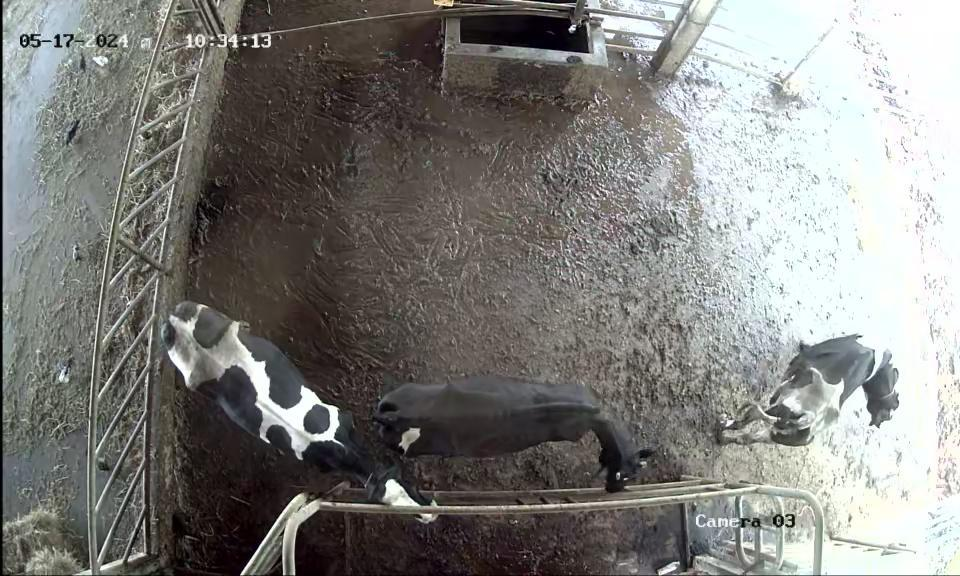stand: (157, 302, 444, 530), (371, 341, 653, 493), (709, 307, 912, 477)
